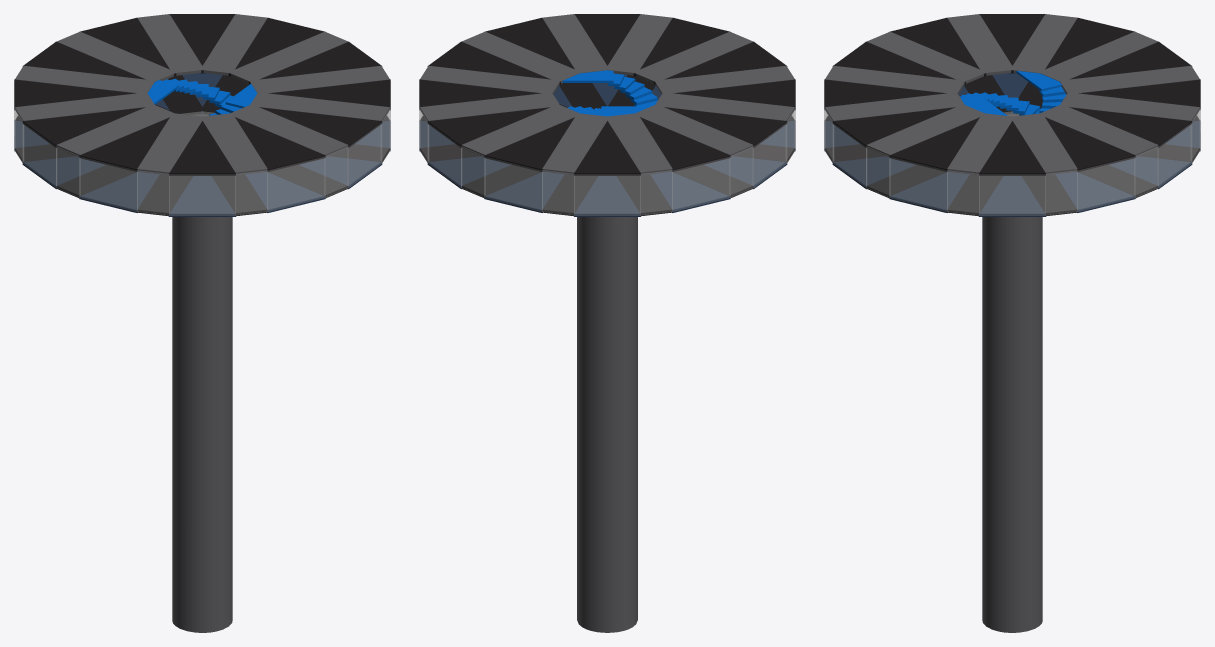
File: Spawn.obj
3 views of the same model, side by side, from view 1: azimuth 30°, elevation 25°; view 2: azimuth 150°, elevation 25°; view 3: azimuth 270°, elevation 25° (orthographic).
Parts seen in each view (by area): view 1: Part1, Window14, Window15, Window13, Platformpart6, Platformpart3, Platformpart5, Platformpart4, Platformpart7, Platformpart12, Platformpart9, Platformpart2 (+37 smaller); view 2: Part1, Window18, Window17, Window19, Platformpart7, Platformpart9, Platformpart11, Platformpart4, Platformpart10, Platformpart8, Platformpart6, Platformpart5 (+36 smaller); view 3: Part1, Window22, Window21, Window23, Platformpart11, Platformpart2, Platformpart1, Platformpart12, Platformpart9, Platformpart5, Platformpart4, Platformpart10 (+37 smaller).
Boxes of the visible parts, x1,y1,x2,y2 form: Part1: (172, 217, 232, 632); Window14: (169, 174, 235, 215); Window15: (79, 157, 137, 211); Window13: (267, 157, 325, 211); Platformpart6: (56, 105, 175, 156); Platformpart3: (228, 105, 348, 156); Platformpart5: (137, 113, 204, 175); Platformpart4: (202, 113, 267, 175); Platformpart7: (15, 93, 155, 121); Platformpart12: (230, 31, 348, 83); Platformpart9: (56, 31, 176, 82); Platformpart2: (249, 93, 389, 121); Part1: (577, 217, 637, 632); Window18: (574, 174, 640, 215); Window17: (672, 157, 730, 211); Window19: (484, 157, 542, 211); Platformpart7: (635, 104, 753, 156); Platformpart9: (542, 113, 609, 175); Platformpart11: (420, 92, 560, 121); Platformpart4: (633, 31, 753, 83); Platformpart10: (462, 105, 578, 156); Platformpart8: (607, 113, 672, 175); Platformpart6: (655, 92, 794, 121); Platformpart5: (655, 65, 794, 94); Part1: (982, 217, 1042, 632); Window22: (979, 174, 1045, 215); Window21: (1077, 157, 1135, 211); Window23: (889, 157, 947, 211); Platformpart11: (1038, 104, 1158, 156); Platformpart2: (866, 104, 983, 156); Platformpart1: (947, 113, 1012, 175); Platformpart12: (1010, 113, 1077, 175); Platformpart9: (1060, 65, 1199, 94); Platformpart5: (866, 31, 984, 83); Platformpart4: (825, 65, 964, 94); Platformpart10: (1060, 93, 1199, 121).
Size of the model in its own units: 124 by 192 by 124.
